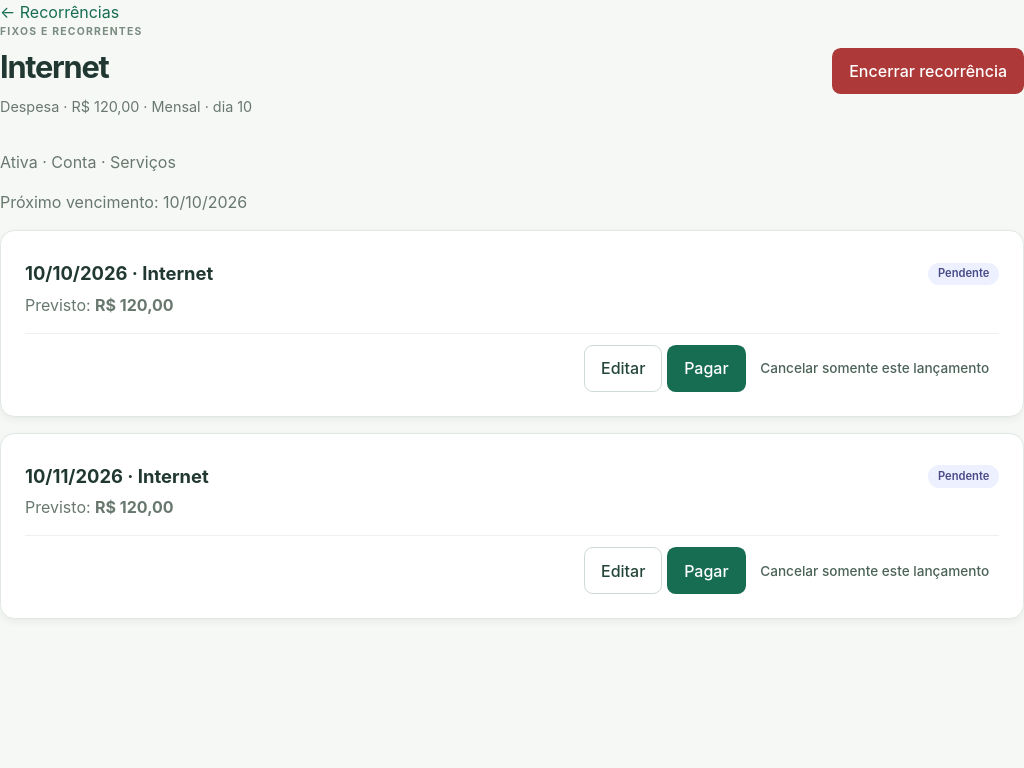
encerrar usa data explícita e preserva listagem histórica
The width and height of the screenshot is (1024, 768).
Click the button "Encerrar recorrência" at (928, 71), box [832,48,1023,94]
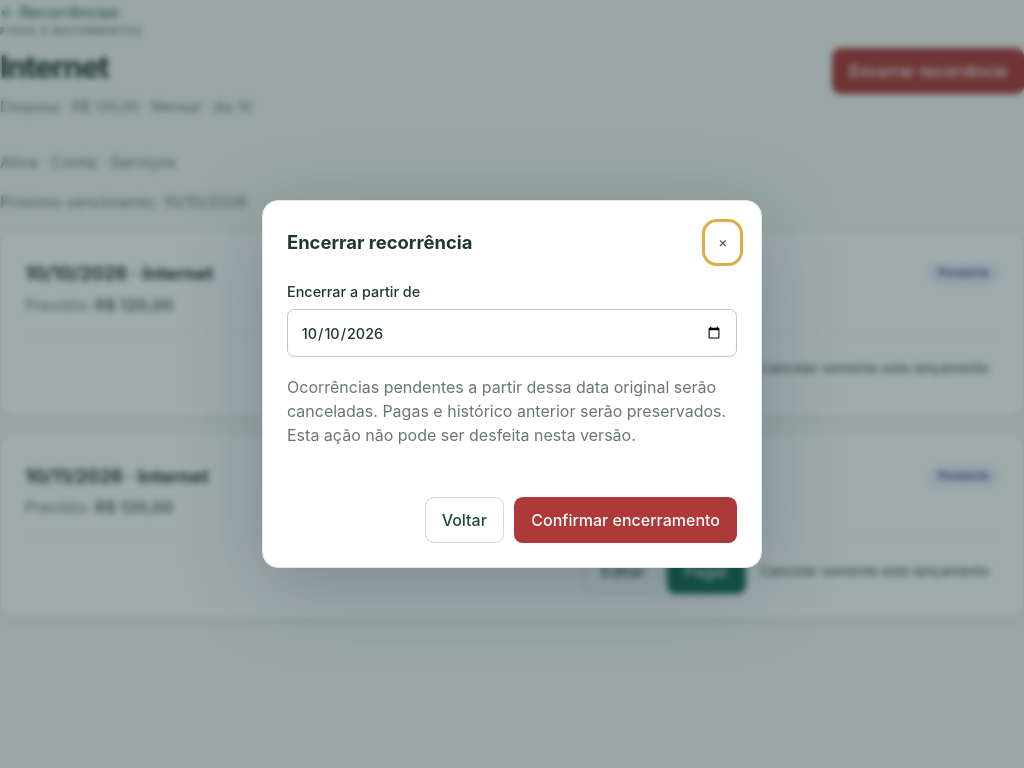
Type "2027-01-10" into the date field labelled "Encerrar a partir de" at (512, 333), box [287,309,737,357]
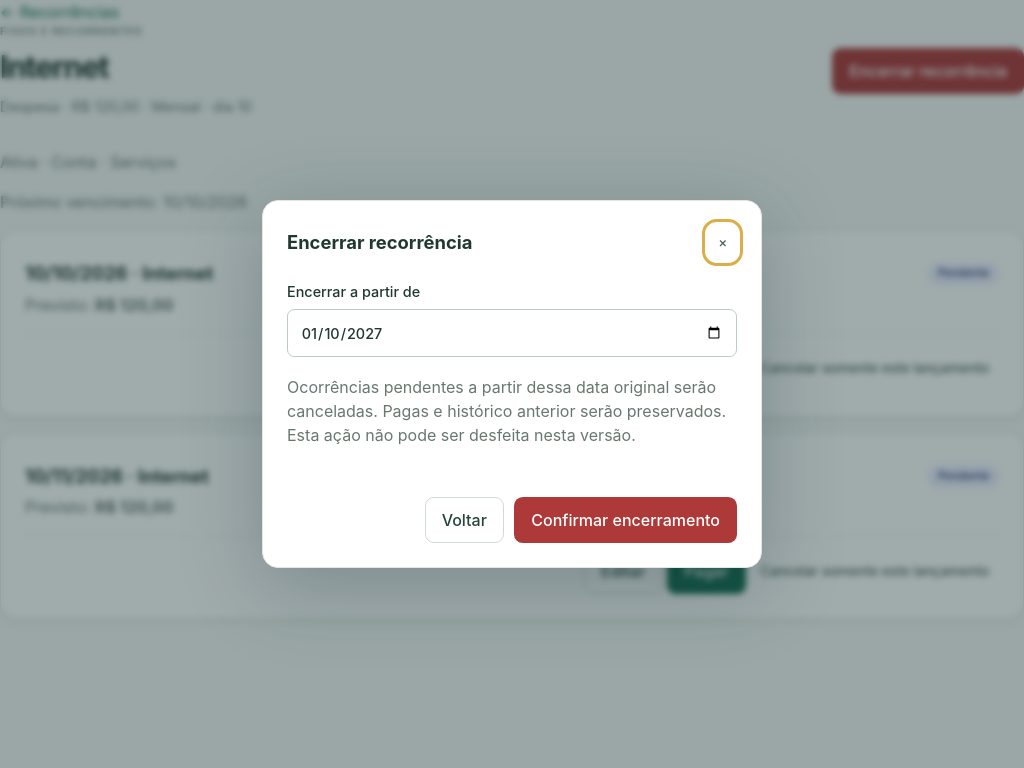
Click the button "Confirmar encerramento" at (626, 520), box [514,497,737,543]
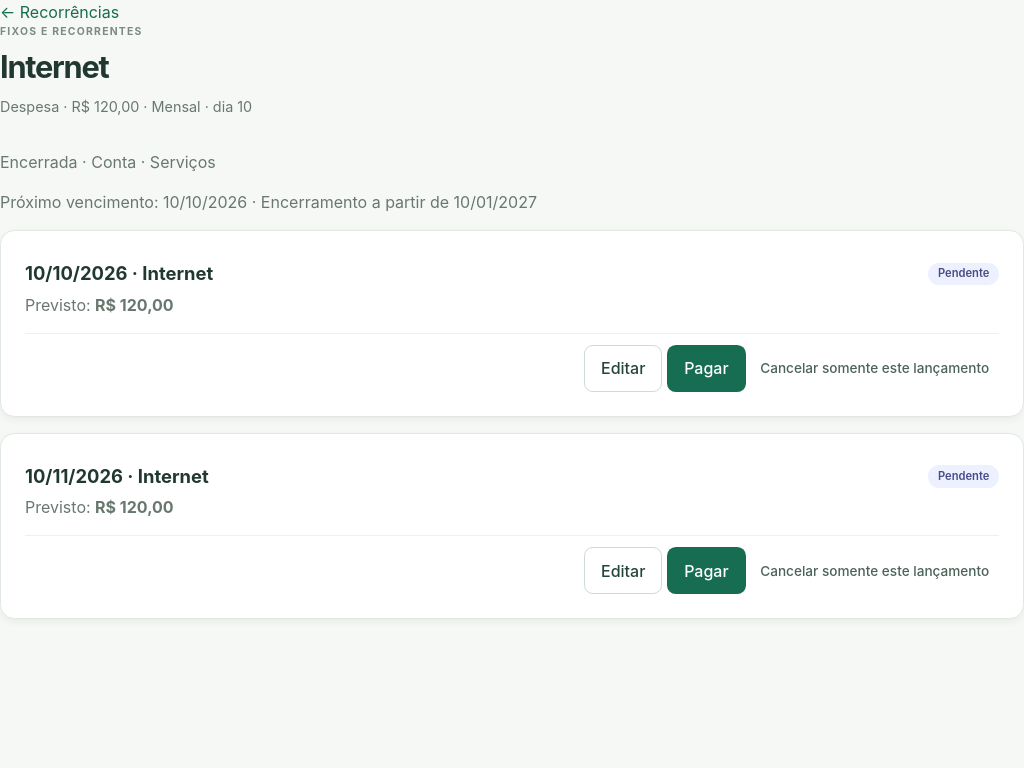
Expected: the heading "10/10/2026 · Internet" is shown, [25,262,213,286]
Now the text "Encerrada · Conta · Serviços" is shown, box [0,152,216,172]
